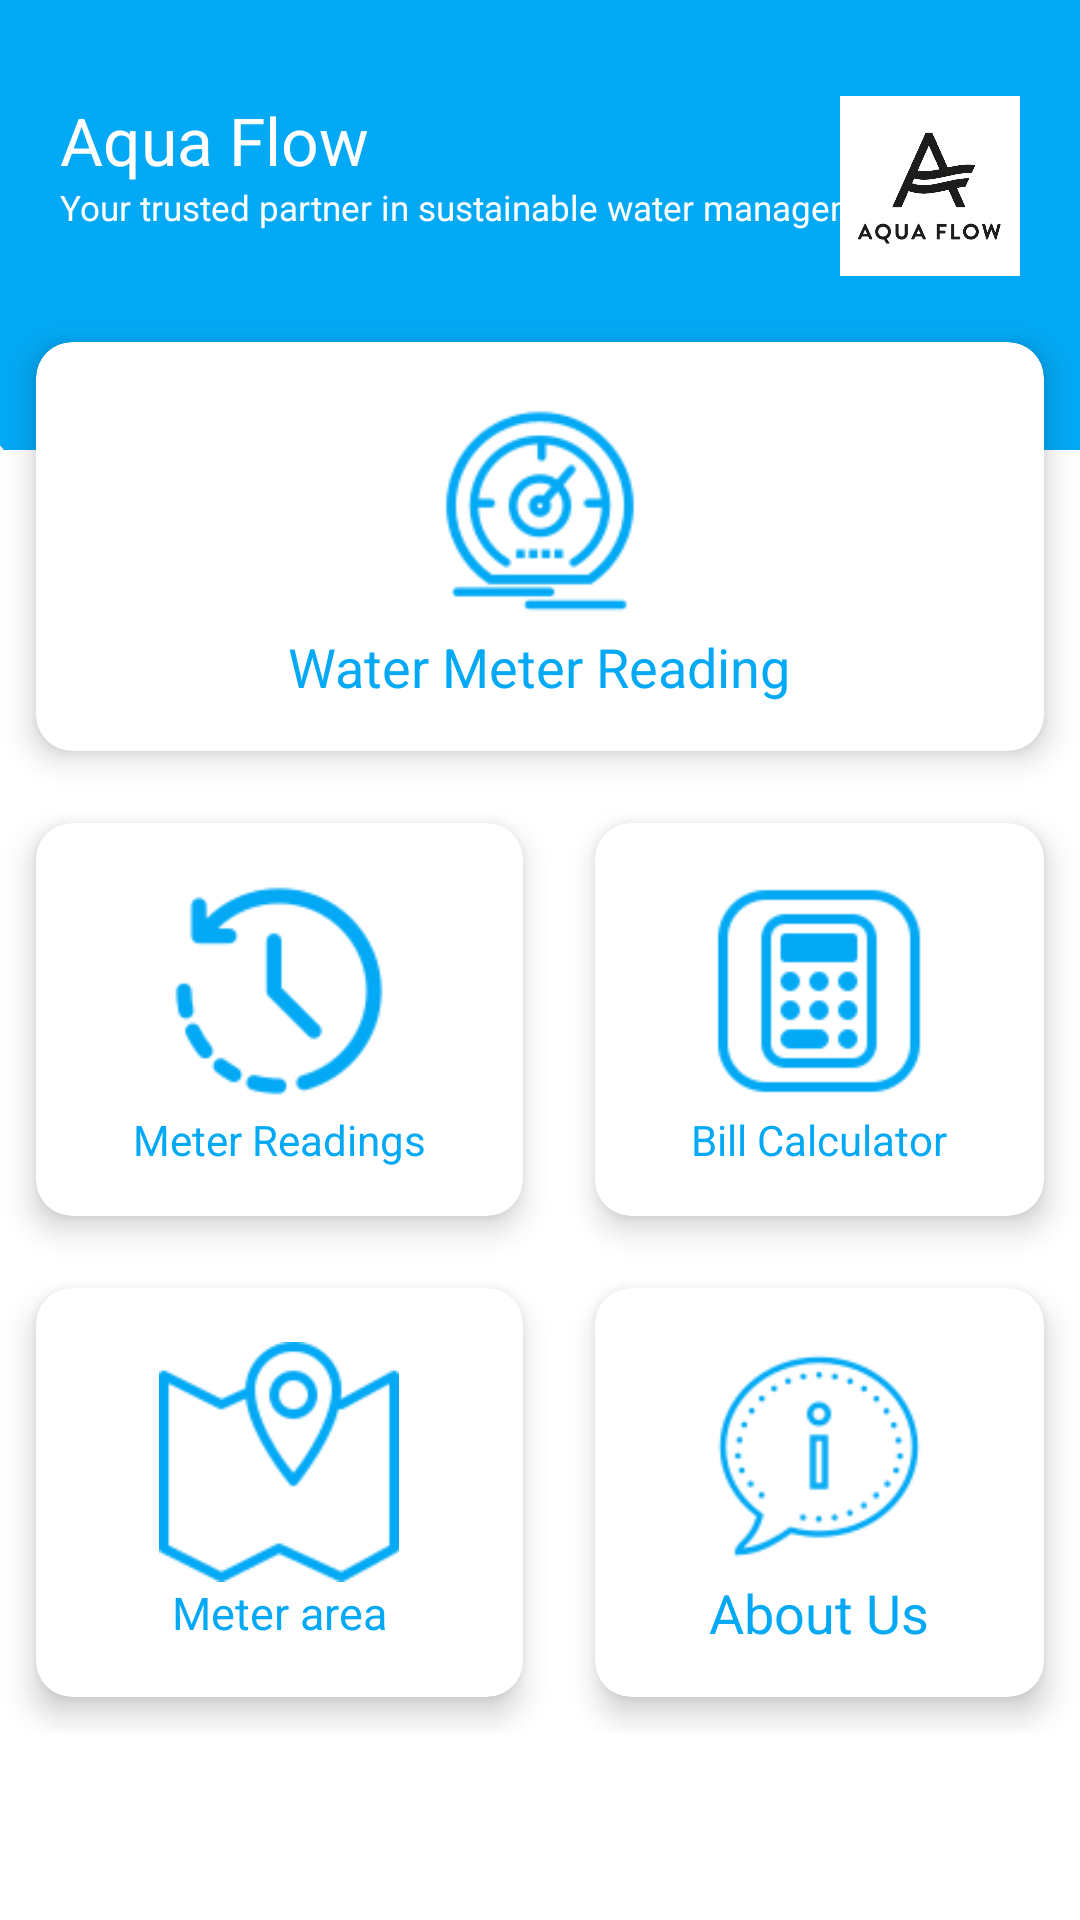

Icons on this 1080px x 1920px Android screen, each with its box as (x1, y1, x2, y2):
history: (175, 887, 383, 1095)
map: (159, 1342, 399, 1582)
